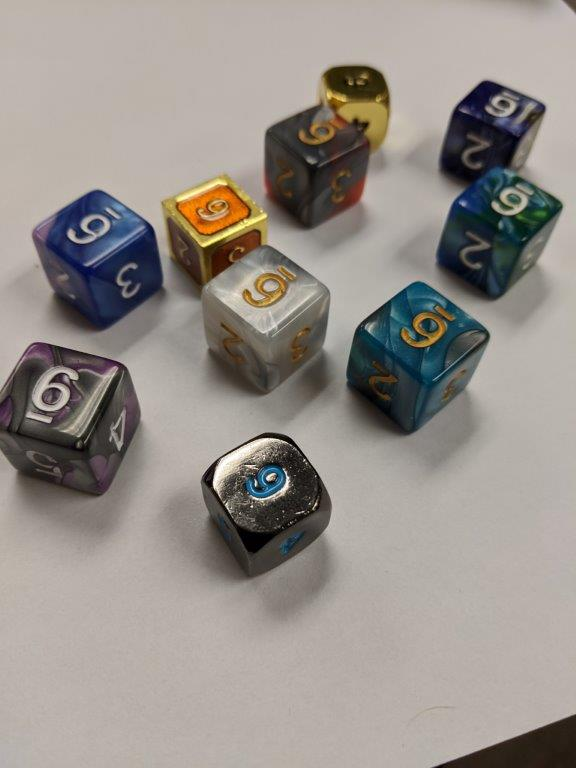d6-6: (1, 341, 146, 499), (347, 281, 491, 436), (198, 243, 329, 395), (201, 431, 333, 577), (30, 190, 165, 327), (433, 163, 562, 297), (263, 102, 367, 223), (161, 171, 268, 286), (442, 79, 547, 179), (323, 63, 389, 147)
